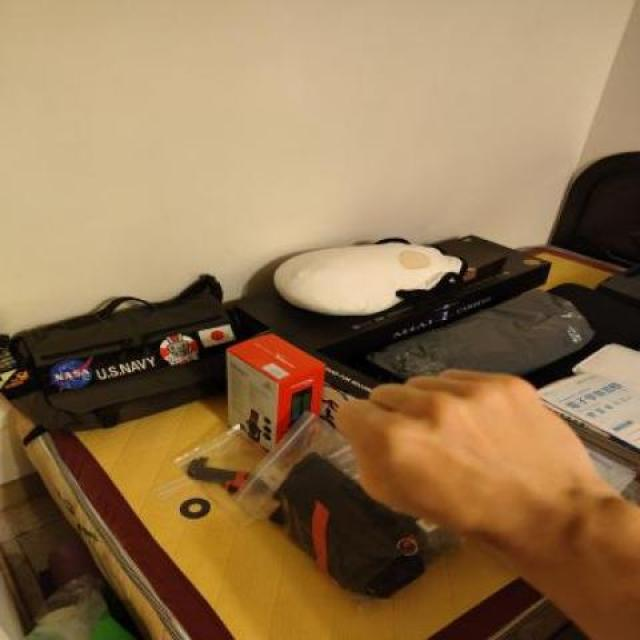fist: (320, 347, 640, 585)
